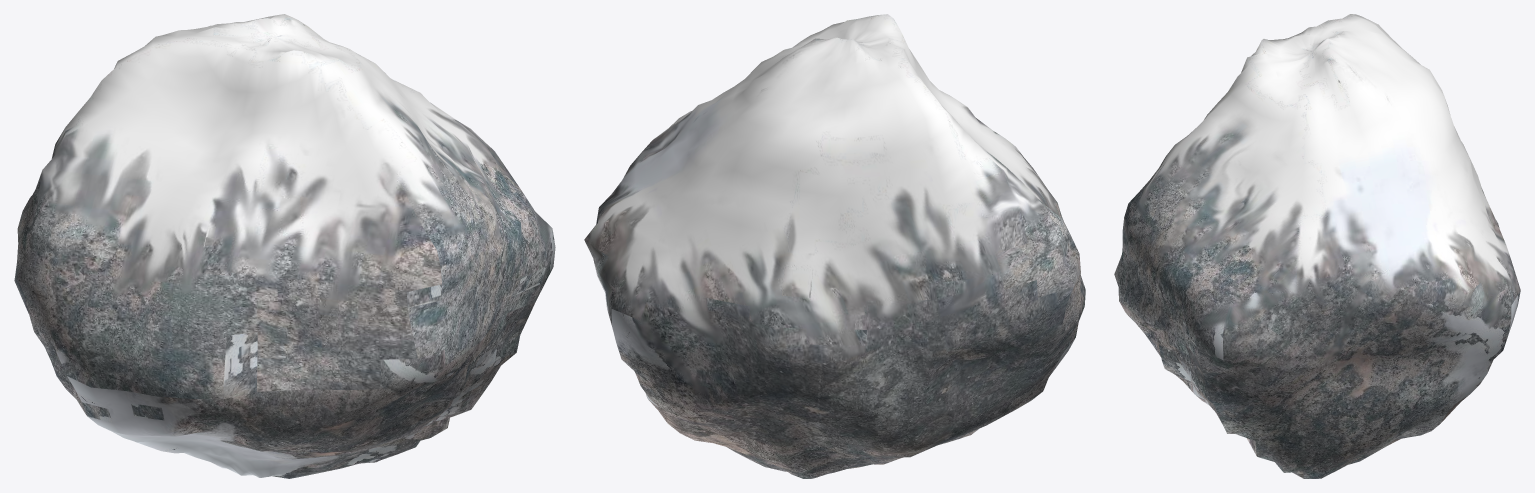
Rendered from MountainsLow1.fbx.
The picture shows the model from 3 angles, left to right: view 1: azimuth 30°, elevation 25°; view 2: azimuth 150°, elevation 25°; view 3: azimuth 270°, elevation 25°; orthographic projection. The views are drawn at different scales.
Visible parts, largest first — view 1: Landscape; view 2: Landscape; view 3: Landscape.
Boxes of the visible parts, <box> form: Landscape: <box>14,14,555,478</box>; Landscape: <box>584,14,1085,478</box>; Landscape: <box>1114,14,1520,478</box>.
Size of the model in its own units: 346 by 322 by 300.
